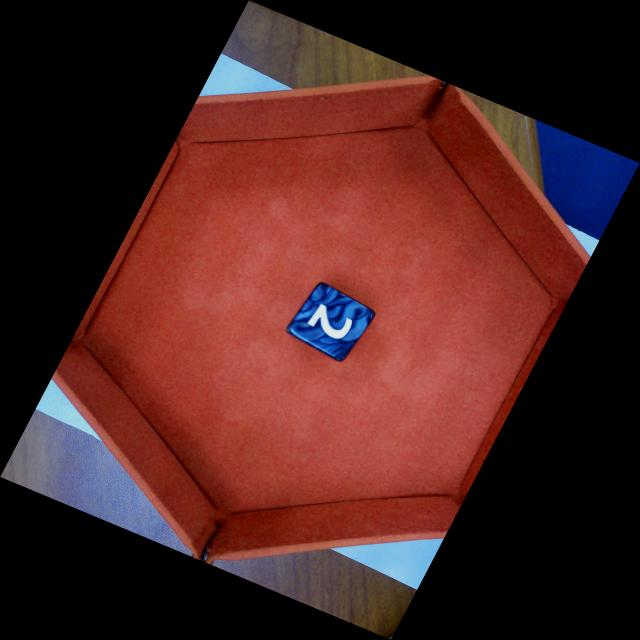dice: (285, 281, 377, 363)
